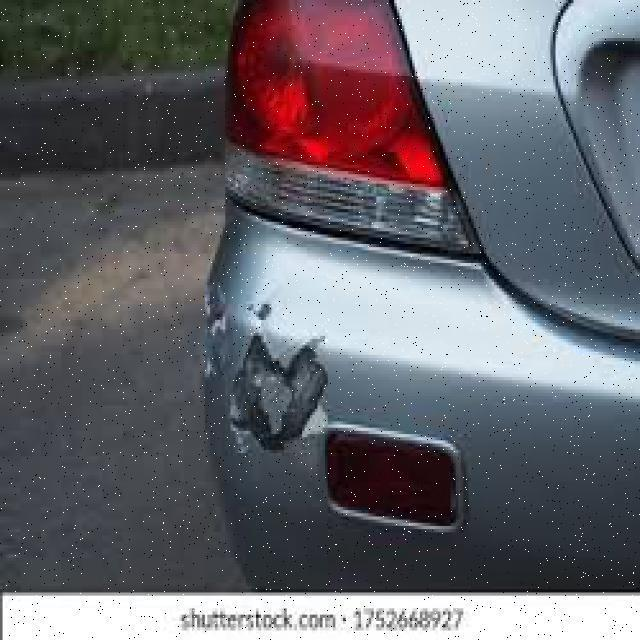rear-bumper-dent: (144, 186, 536, 590)
